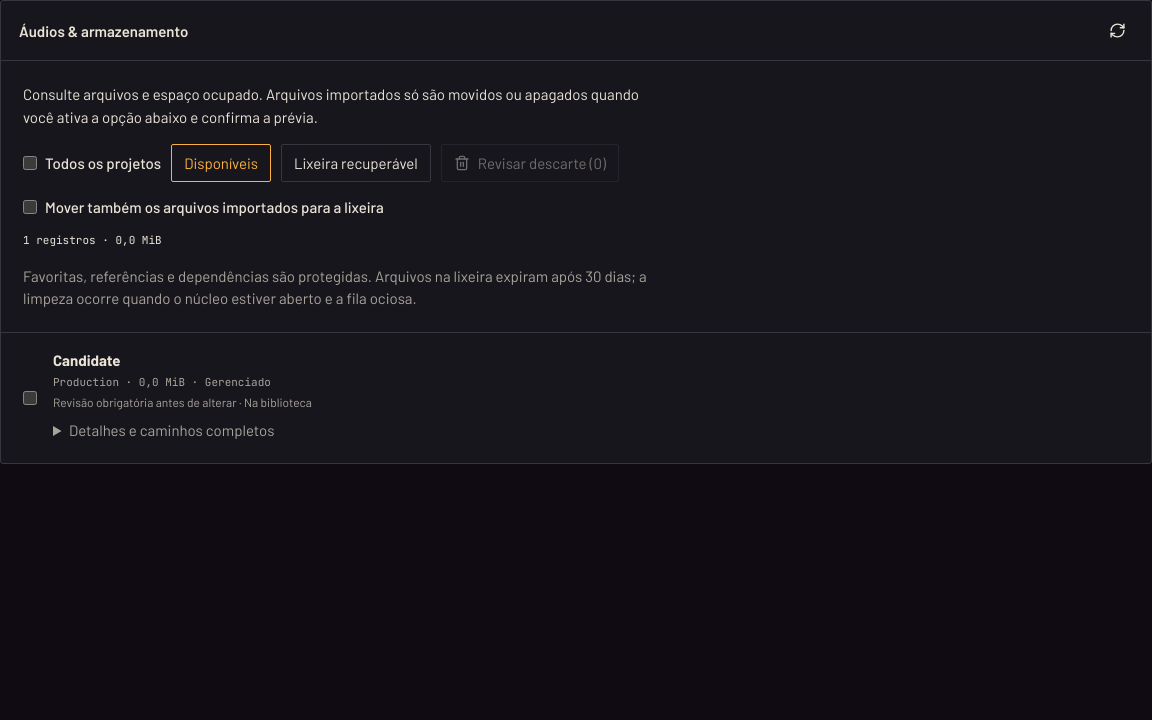
Test: only submits discard after preview and explicit confirmation
This screenshot has width=1152, height=720.
Click the checkbox named "Selecionar Candidate". click: (30, 398)
box: [23,390,37,404]
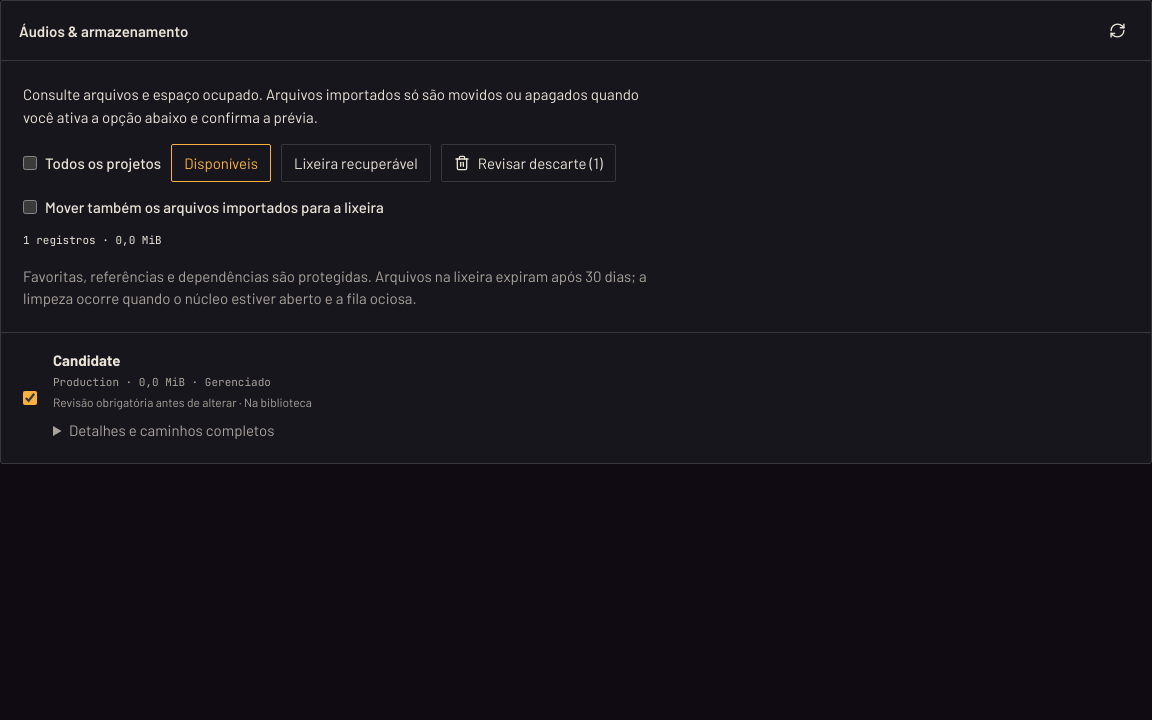
Click the button "Revisar descarte (1)". click: (528, 163)
box: [441,144,616,182]
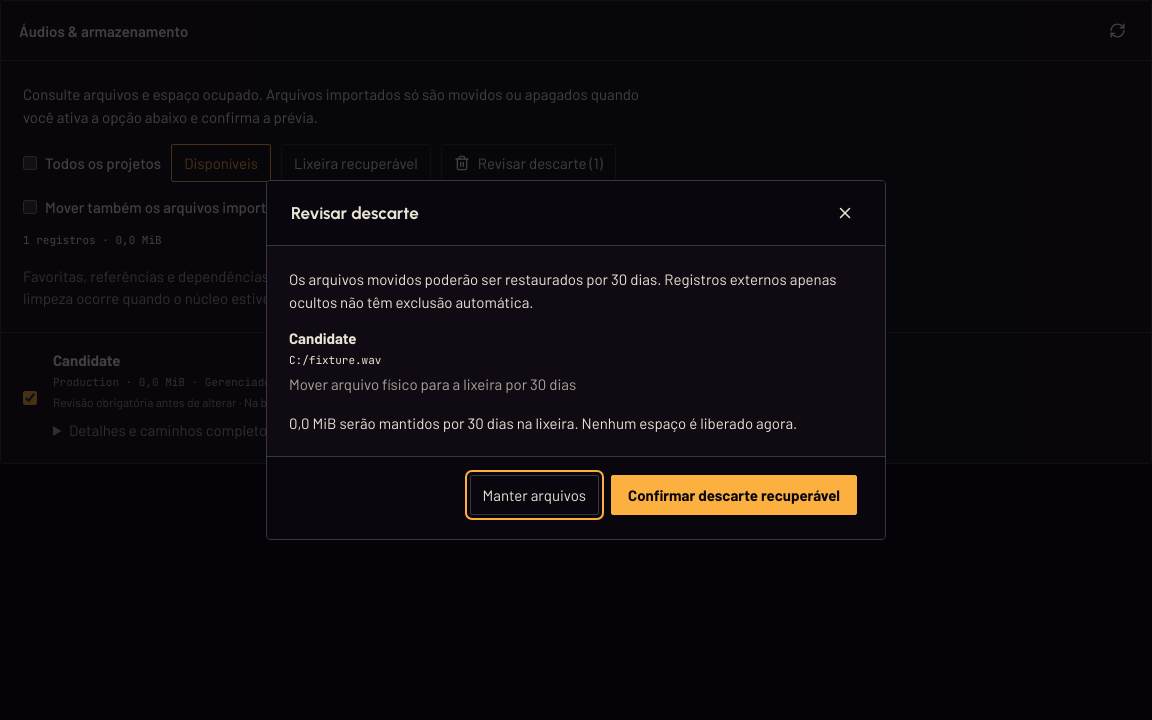
Click the button "Confirmar descarte recuperável". click: (734, 495)
box: [611,475,857,515]
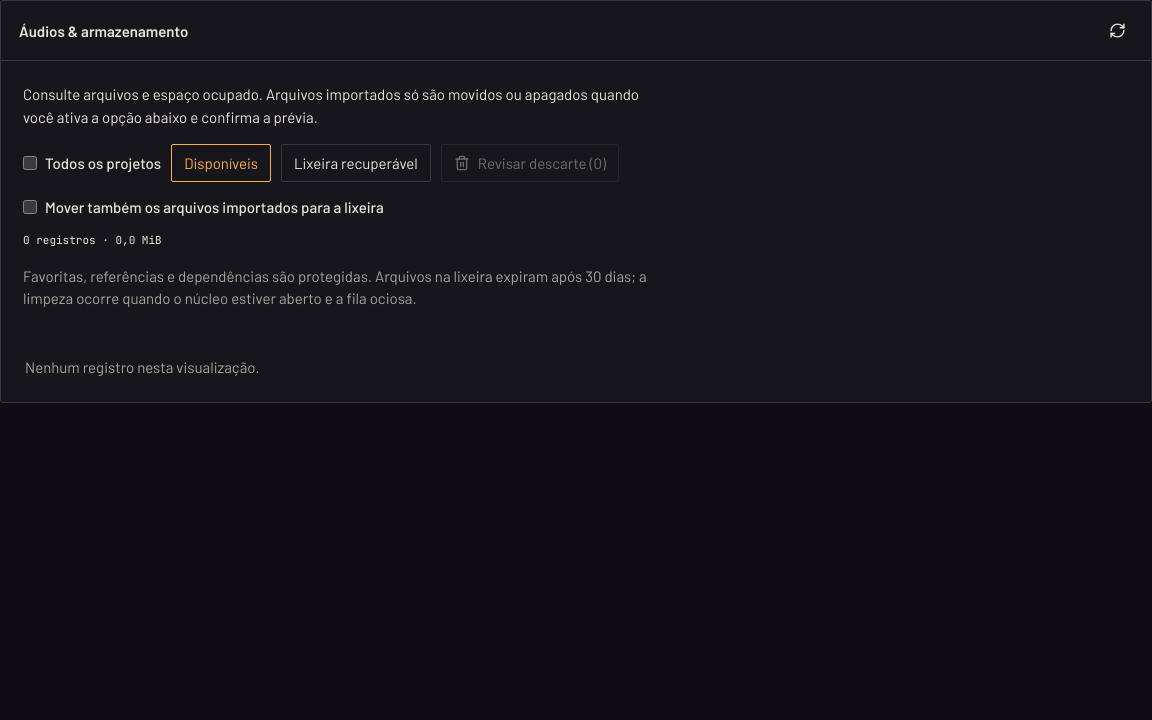
Check: the text "Candidate" is gone
